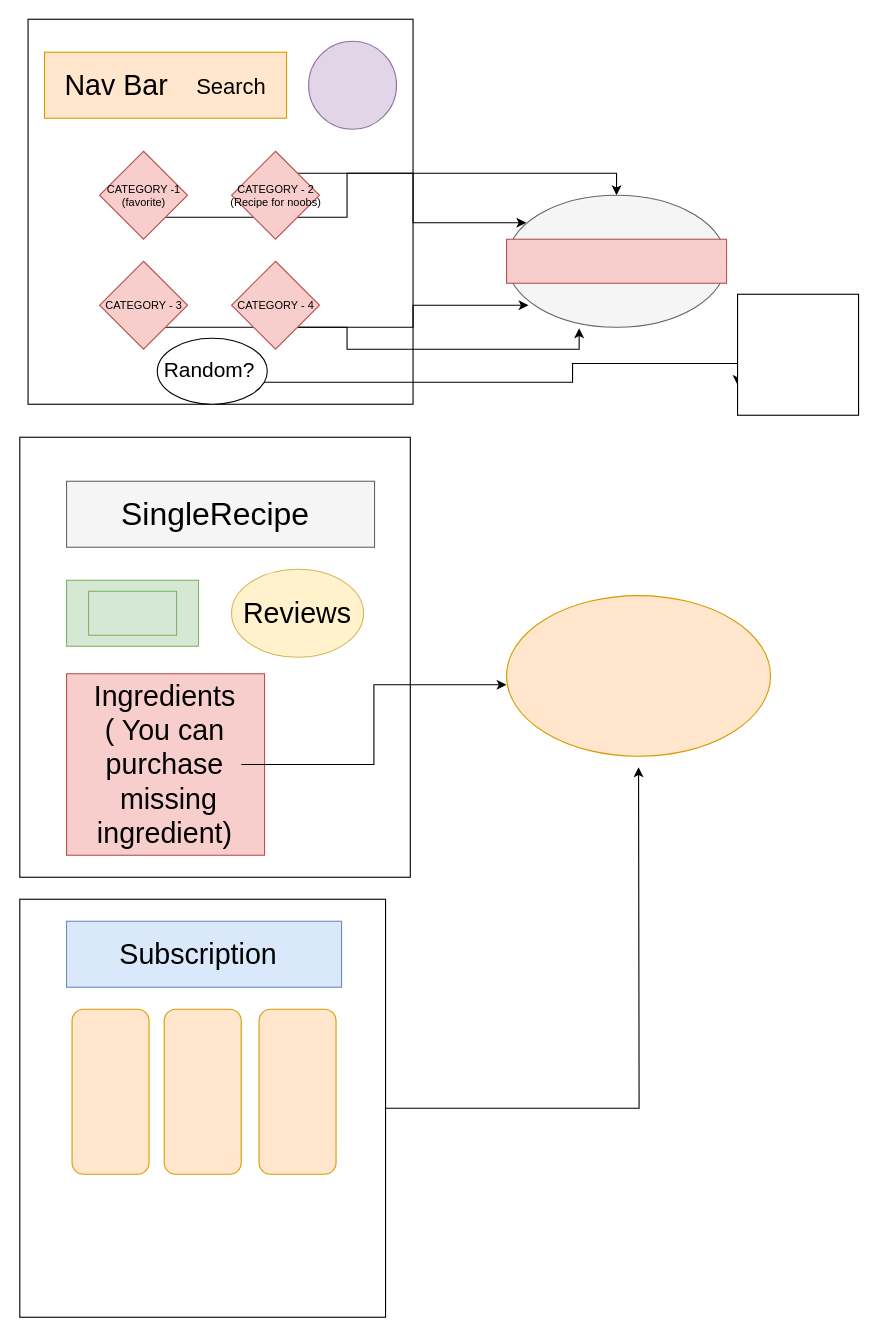
Some shapes in this 878 by 1337 pixel diagram are drawn without their labels. Each missing label, with the centre of its shape:
"- API ? - BE ?" belongs at point (797, 354).
"API ( Weather )" belongs at point (352, 84).
"Backend Server" belongs at point (616, 260).
"Database" belongs at point (638, 675).
"Steps" belongs at point (132, 612).
